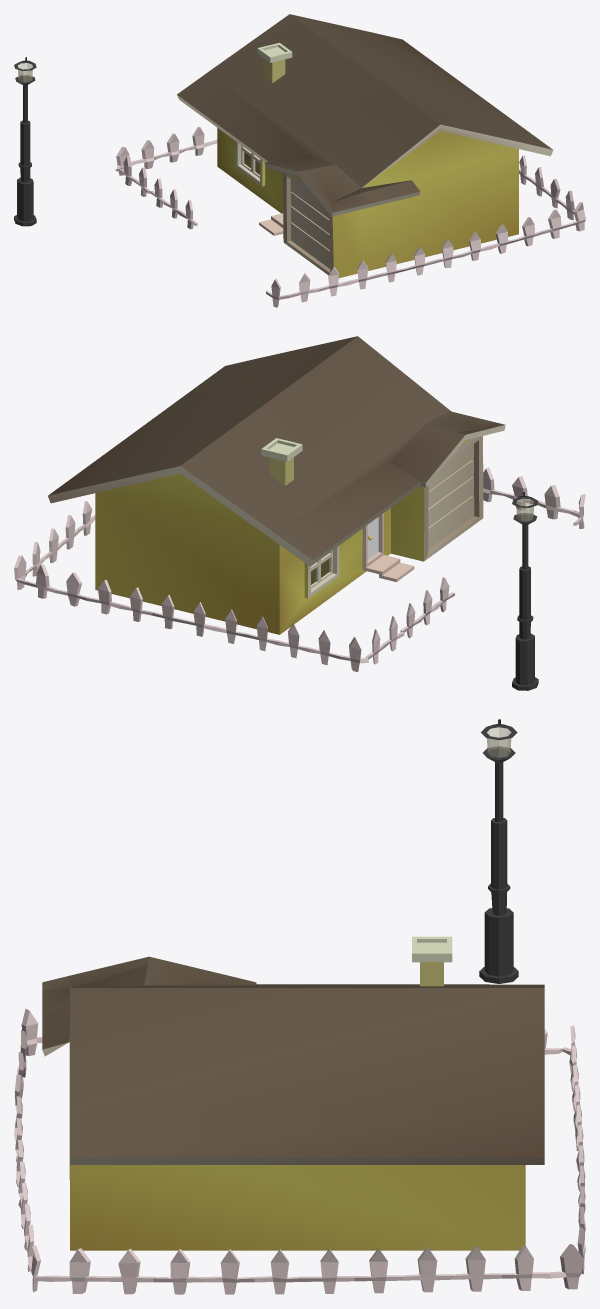
The model's file is yellowhouse.glb.
3 views of the same model, one above another, from view 1: azimuth 30°, elevation 25°; view 2: azimuth 150°, elevation 25°; view 3: azimuth 270°, elevation 25° (orthographic). The views are drawn at different scales.
Visible parts, largest first — view 1: Cube.001, Cube.004, Circle, Cube.002; view 2: Cube.001, Cube.004, Circle, Cube.003, Cube.002; view 3: Cube.001, Cube.004, Circle, Cube.002.
Part boxes in pixels (<box>): Cube.001: <box>177,14,553,278</box>; Cube.004: <box>115,126,585,307</box>; Circle: <box>14,57,36,226</box>; Cube.002: <box>257,42,292,83</box>; Cube.001: <box>48,336,505,634</box>; Cube.004: <box>14,467,585,671</box>; Circle: <box>512,492,538,690</box>; Cube.003: <box>362,513,414,581</box>; Cube.002: <box>261,438,302,485</box>; Cube.001: <box>42,956,544,1250</box>; Cube.004: <box>14,1008,585,1294</box>; Circle: <box>479,719,518,983</box>; Cube.002: <box>412,936,452,986</box>.
Bounding box in the file's own units: 22.13 × 8.16 × 16.4.
